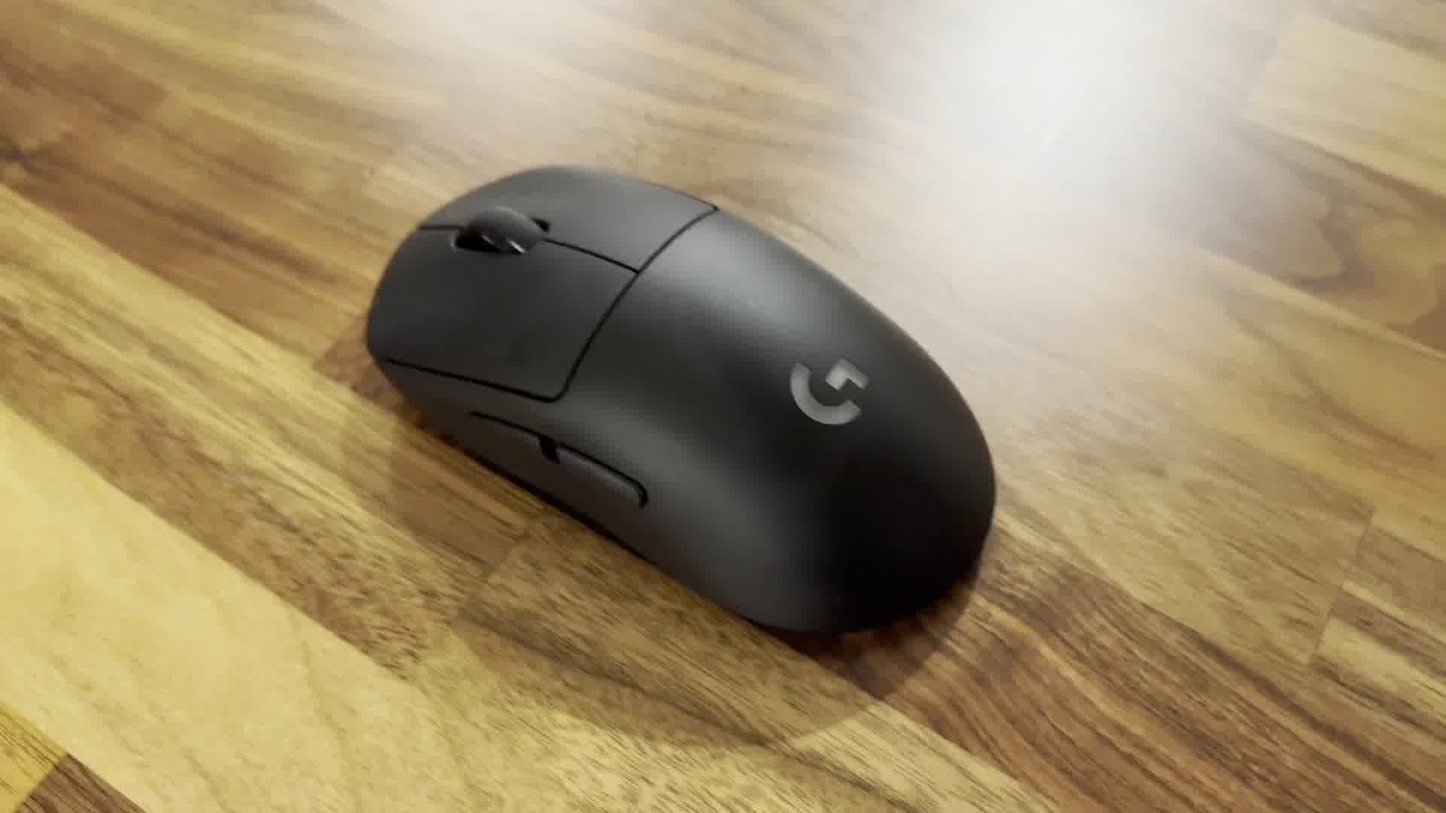mouse: (361, 163, 1000, 642)
